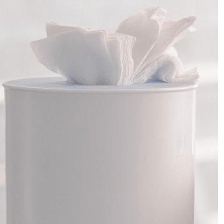plastic_box: (0, 67, 203, 224)
tissue: (24, 2, 204, 93)
